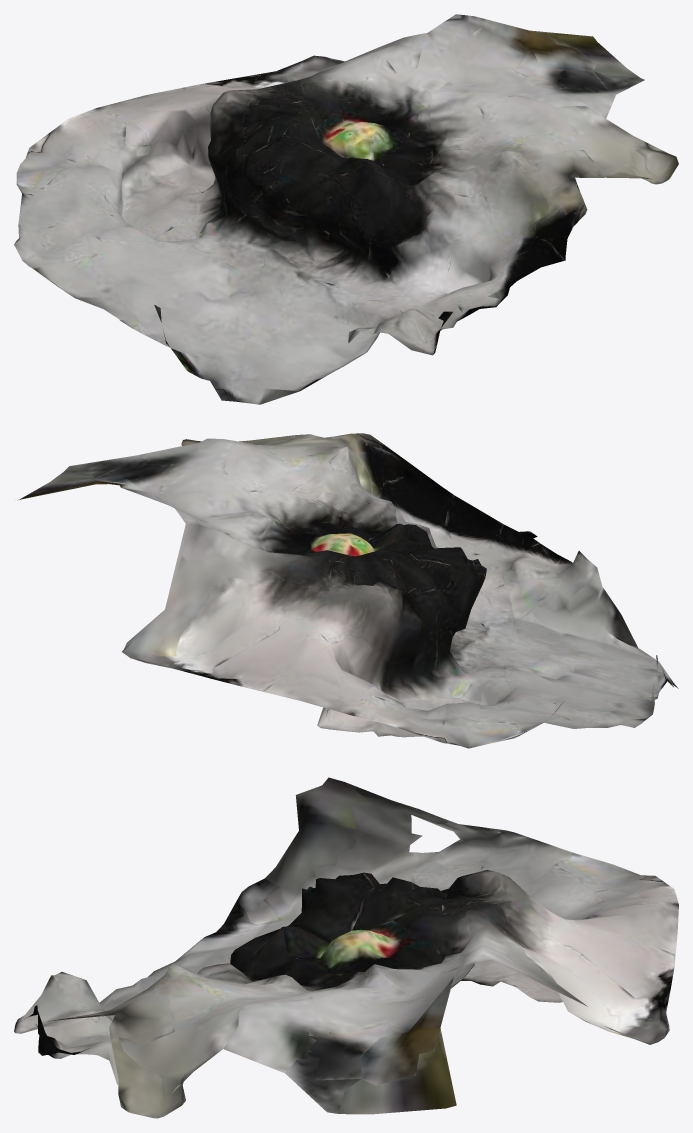
File: hall.glb
3 renders of one model, top to bottom at view 1: azimuth 30°, elevation 25°; view 2: azimuth 150°, elevation 25°; view 3: azimuth 270°, elevation 25°, orthographic. The views are drawn at different scales.
Size of the model in its own units: 1.79 by 0.5912 by 1.44.
Materials: 1 (1 with a texture image).
